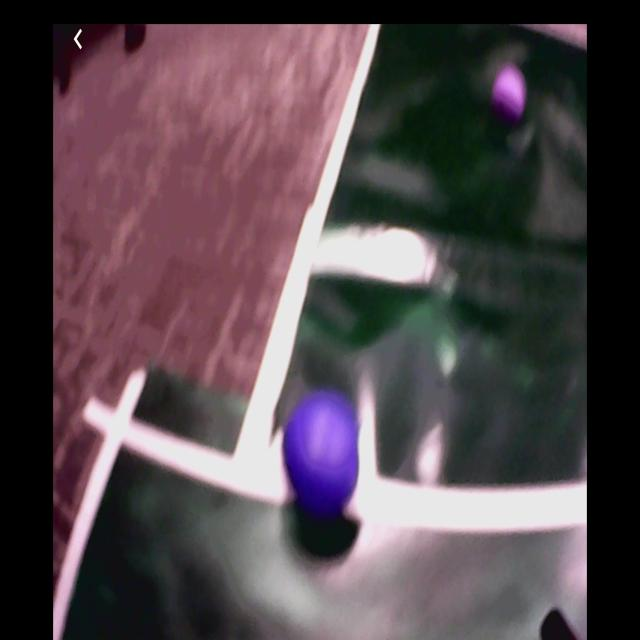ball: (284, 393, 361, 508), (495, 67, 526, 115)
